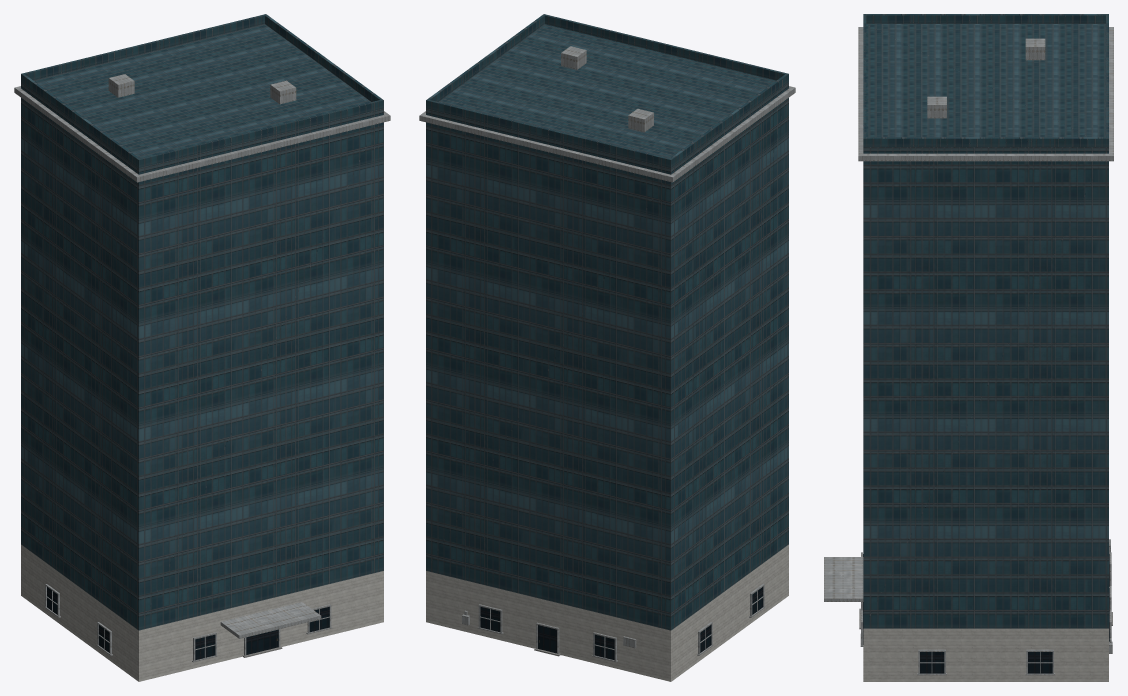
Rendered from fort-street-tower_lod0.gltf.
The picture shows the model from 3 angles, left to right: view 1: azimuth 30°, elevation 25°; view 2: azimuth 150°, elevation 25°; view 3: azimuth 270°, elevation 25°; orthographic projection. The views are drawn at different scales.
Parts seen in each view (by area): view 1: fort-street-tower_upper, fort-street-tower_base, fort-street-tower__cornice, fort-street-tower__parapet_front, fort-street-tower__parapet_back, fort-street-tower__canopy, fort-street-tower_fen_07-glass-curtain-blue_1_t, fort-street-tower__parapet_left, fort-street-tower__parapet_right, fort-street-tower_fen_14-steel-panel_0; view 2: fort-street-tower_upper, fort-street-tower_base, fort-street-tower__cornice, fort-street-tower__parapet_back, fort-street-tower__parapet_front, fort-street-tower_fen_07-glass-curtain-blue_1_t, fort-street-tower_fen_14-steel-panel_0, fort-street-tower__parapet_left, fort-street-tower__parapet_right; view 3: fort-street-tower_upper, fort-street-tower_base, fort-street-tower__cornice, fort-street-tower__parapet_right, fort-street-tower__parapet_left, fort-street-tower__canopy, fort-street-tower_fen_07-glass-curtain-blue_1_t, fort-street-tower_fen_14-steel-panel_0, fort-street-tower__parapet_front, fort-street-tower__vent_a, fort-street-tower__vent_b.
Part boxes in pixels (x1,y1,x2,y2): fort-street-tower_upper: (21, 24, 383, 630); fort-street-tower_base: (21, 544, 383, 681); fort-street-tower__cornice: (14, 86, 390, 182); fort-street-tower__parapet_front: (137, 99, 383, 168); fort-street-tower__parapet_back: (21, 14, 266, 82); fort-street-tower__canopy: (220, 602, 321, 638); fort-street-tower_fen_07-glass-curtain-blue_1_t: (47, 587, 329, 660); fort-street-tower__parapet_left: (22, 74, 139, 166); fort-street-tower__parapet_right: (265, 15, 381, 101); fort-street-tower_fen_14-steel-panel_0: (44, 584, 332, 662); fort-street-tower_upper: (426, 24, 788, 630); fort-street-tower_base: (426, 544, 788, 681); fort-street-tower__cornice: (419, 86, 795, 182); fort-street-tower__parapet_back: (426, 99, 672, 168); fort-street-tower__parapet_front: (543, 14, 788, 82); fort-street-tower_fen_07-glass-curtain-blue_1_t: (480, 587, 762, 660); fort-street-tower_fen_14-steel-panel_0: (462, 584, 765, 662); fort-street-tower__parapet_left: (670, 74, 787, 166); fort-street-tower__parapet_right: (428, 15, 544, 101); fort-street-tower_upper: (863, 24, 1108, 628); fort-street-tower_base: (863, 628, 1108, 681); fort-street-tower__cornice: (858, 27, 1113, 161); fort-street-tower__parapet_right: (866, 137, 1105, 147); fort-street-tower__parapet_left: (866, 14, 1105, 23); fort-street-tower__canopy: (824, 557, 863, 601); fort-street-tower_fen_07-glass-curtain-blue_1_t: (863, 554, 1109, 673); fort-street-tower_fen_14-steel-panel_0: (860, 539, 1112, 675); fort-street-tower__parapet_front: (863, 14, 866, 147); fort-street-tower__vent_a: (1025, 38, 1045, 60); fort-street-tower__vent_b: (927, 96, 946, 118).
Bounding box in the file's own units: 31 × 61.5 × 29.5.
